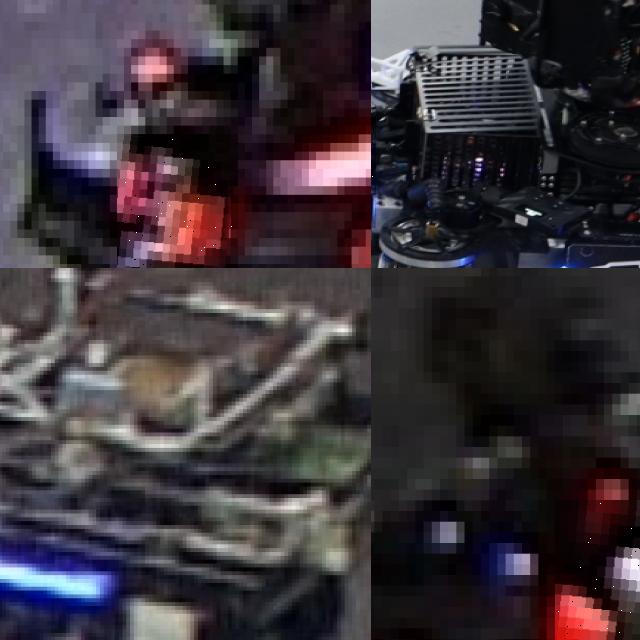B3: (117, 134, 238, 268)
R5: (555, 500, 640, 640)
